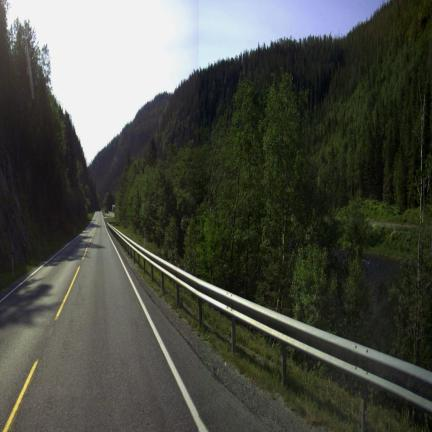Road: (0, 213, 268, 430)
